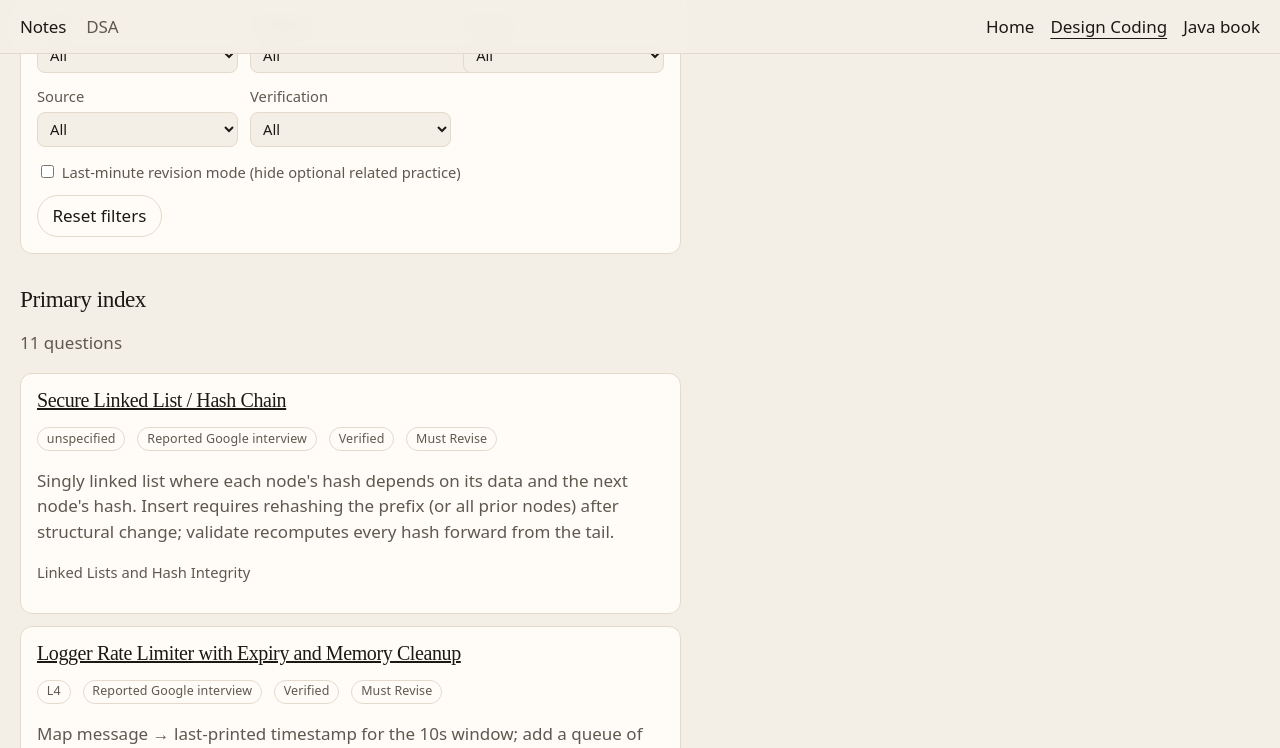
DSA design coding section › opens a question detail page with implementation and sources
(page scrolled)
Click the link "Secure Linked List / Hash Chain" at (162, 400), box [37,389,286,411]
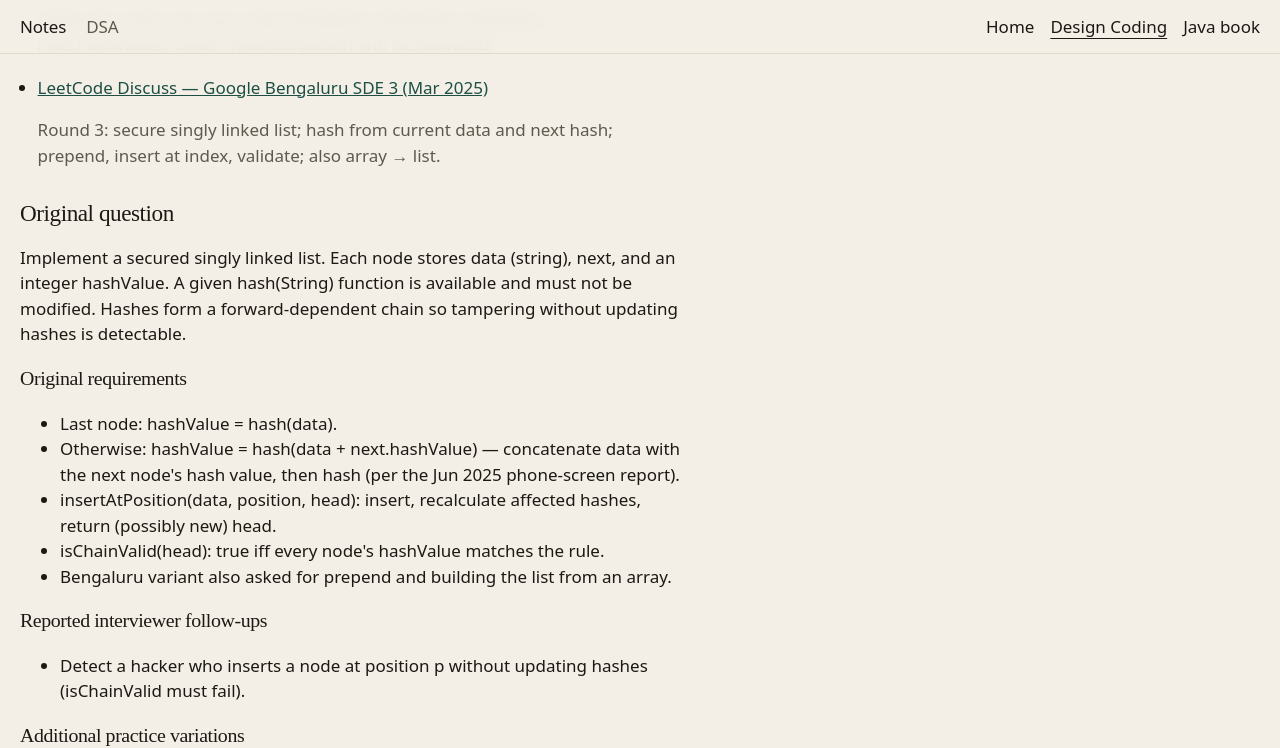
Now the text "hash(data + next.hashValue)" is shown, box [38,8,554,56]
